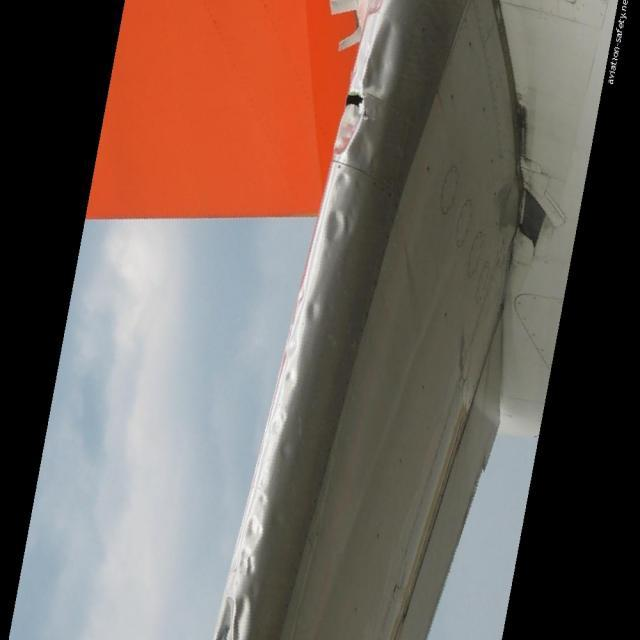dent: (214, 492, 271, 640), (359, 20, 402, 103), (335, 108, 383, 173), (326, 211, 356, 246), (285, 331, 301, 393), (306, 297, 324, 326), (335, 176, 350, 195)
